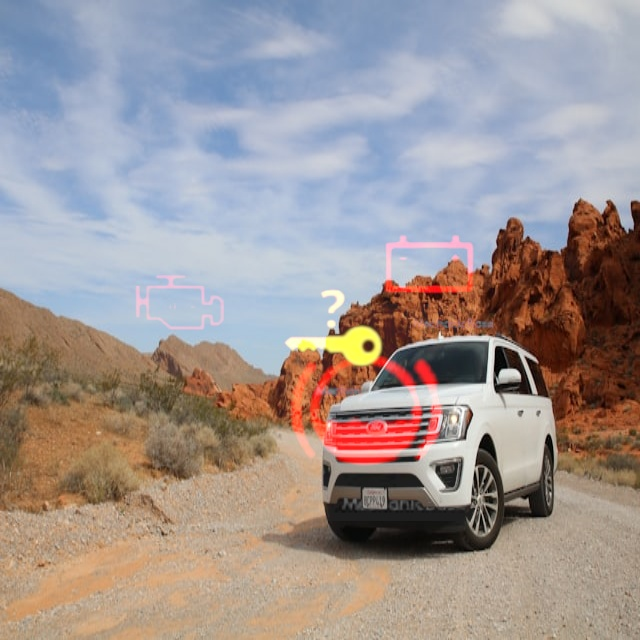symbol: (257, 304, 474, 521), (257, 253, 407, 403), (358, 194, 499, 335), (113, 237, 245, 369)
